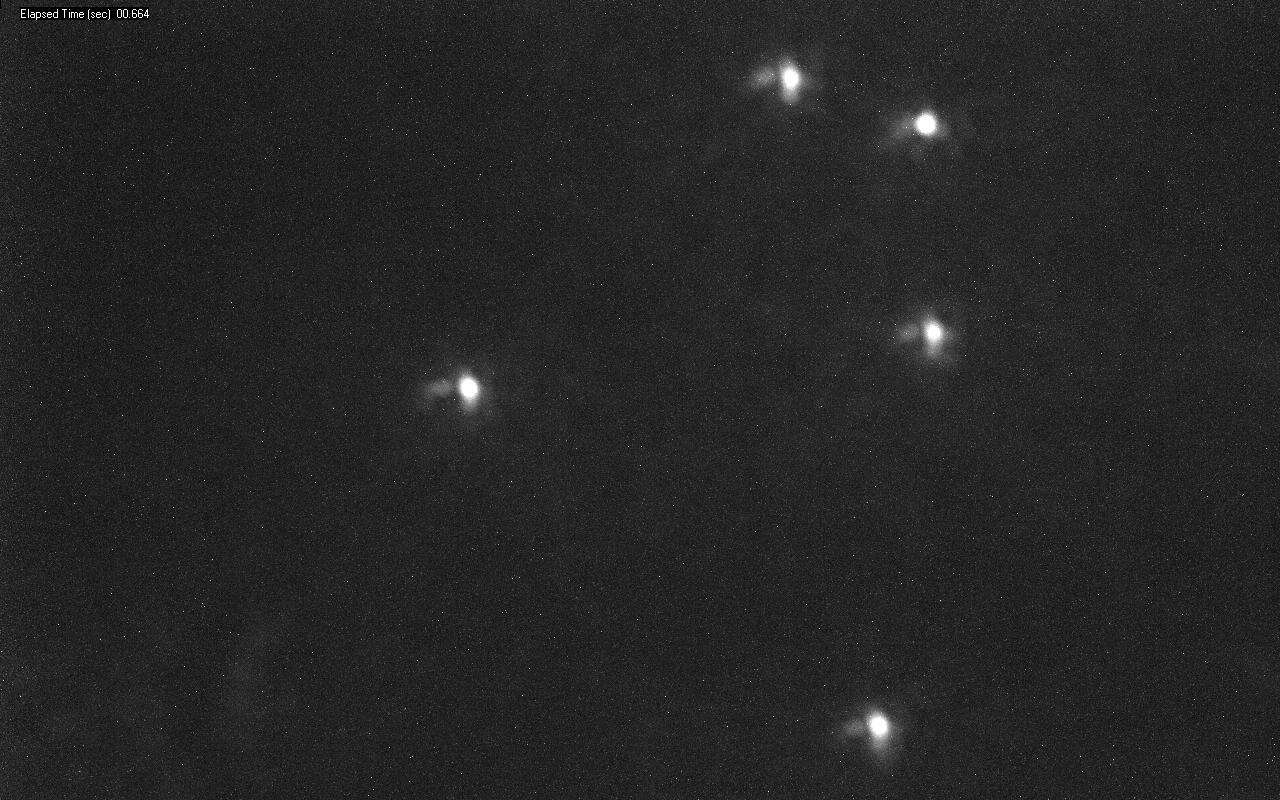Bead: (910, 318, 944, 348), (912, 112, 940, 136), (867, 712, 891, 739), (460, 377, 478, 399), (783, 67, 798, 89)
